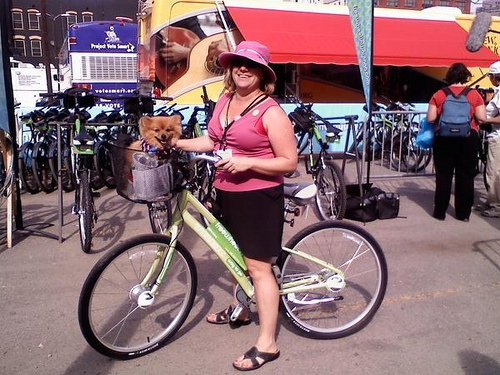non-vehicle: (78, 133, 387, 361), (38, 91, 112, 252), (285, 92, 345, 220), (350, 118, 419, 169), (31, 105, 70, 193), (378, 93, 424, 137), (474, 84, 494, 172), (92, 127, 120, 189), (45, 139, 77, 191), (18, 123, 39, 193), (179, 107, 209, 139), (146, 199, 172, 233)
